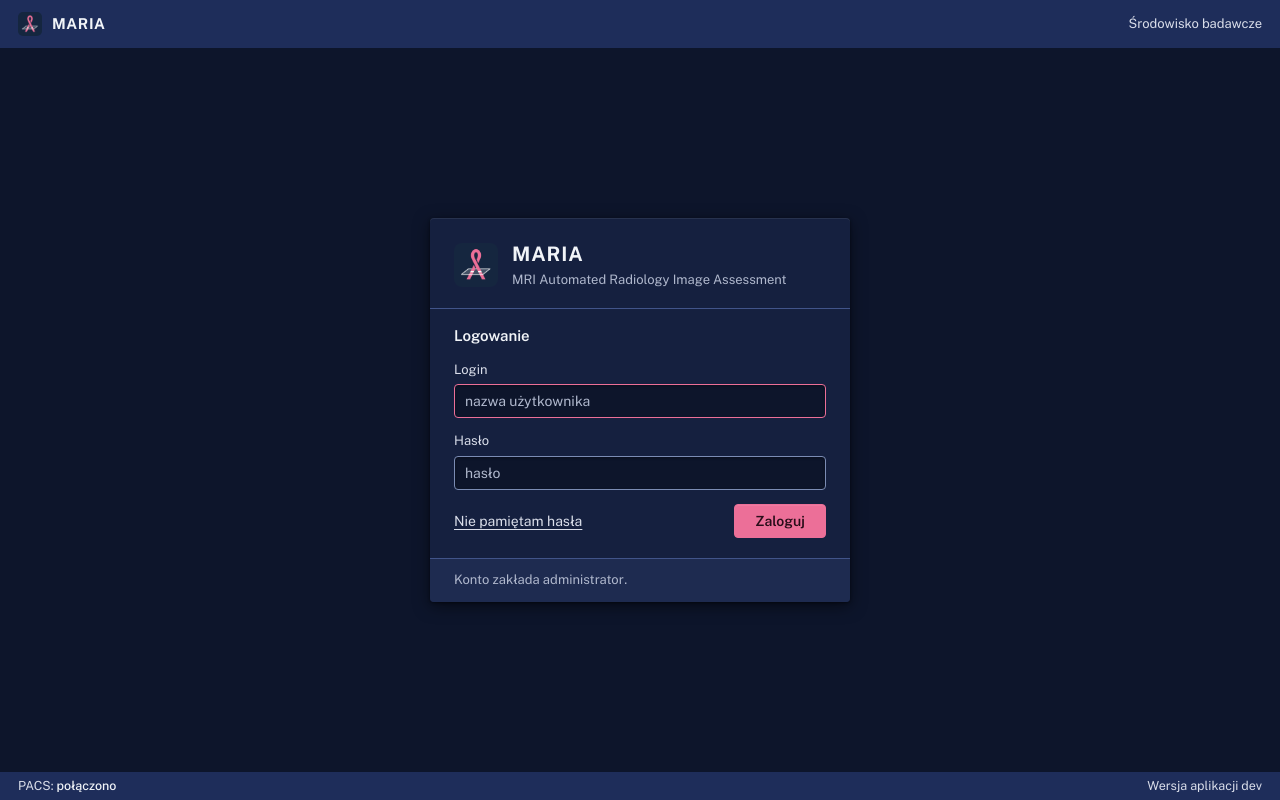
Test: LoginPage › says the login or password is wrong on 401
This screenshot has width=1280, height=800.
Type "demo.radiologist" into the field labelled "Login" at (640, 401), box [454,384,826,418]
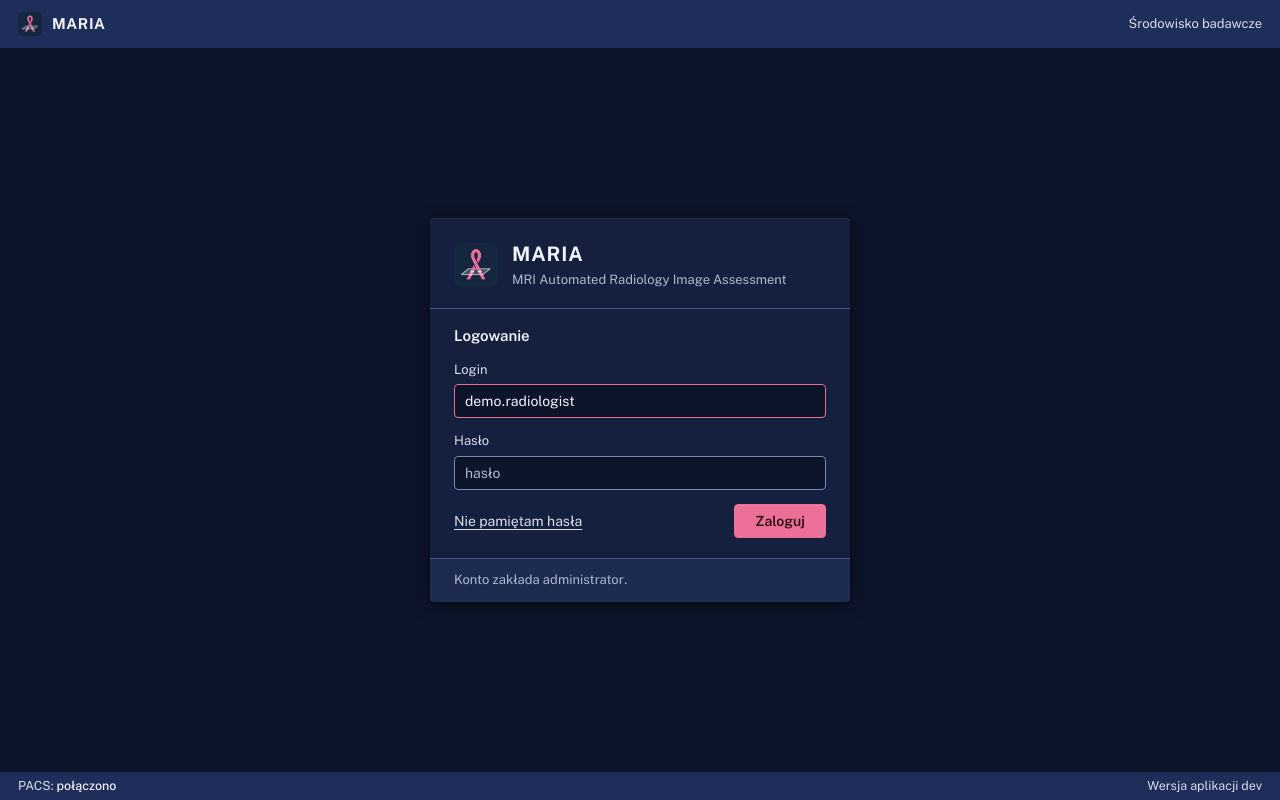
Type "zle" into the password field labelled "Hasło" at (640, 473), box [454,456,826,490]
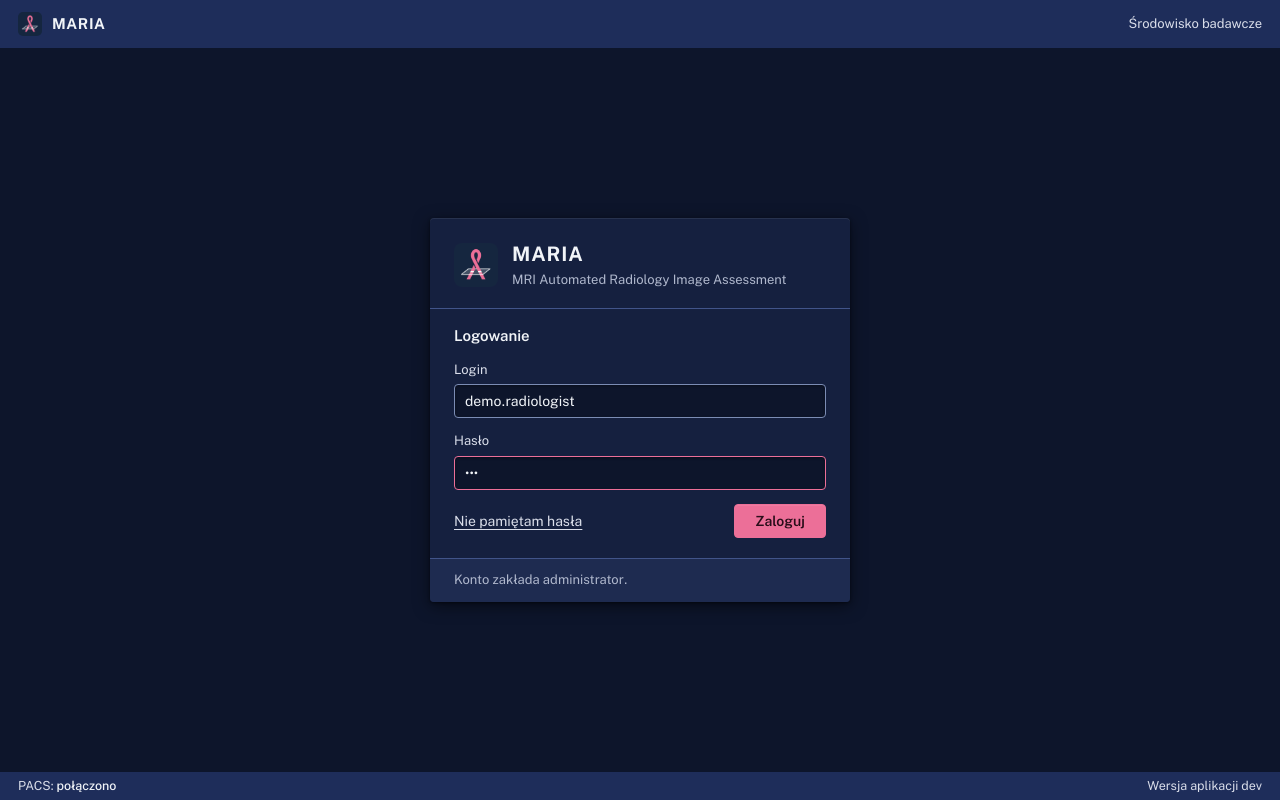
Click the button "Zaloguj" at (780, 521), box [734,504,826,538]
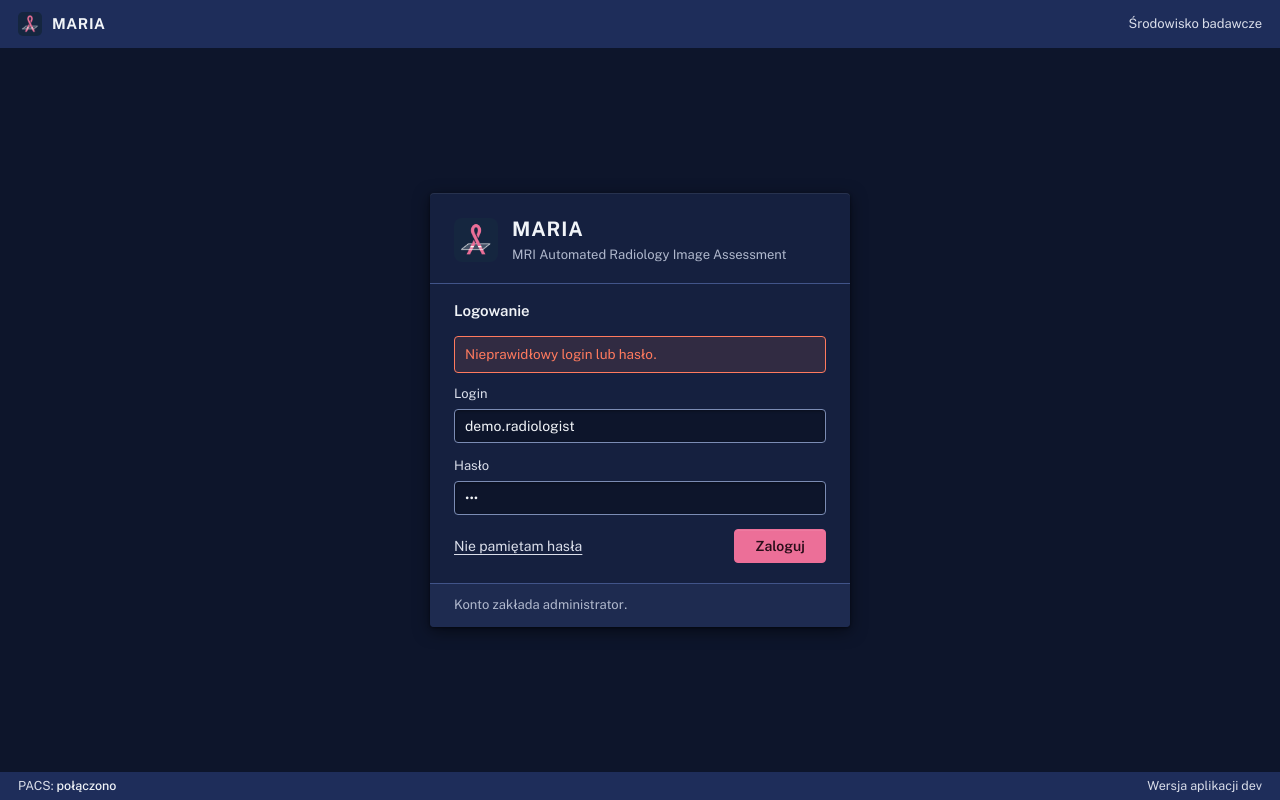
Check: the message reads "Nieprawidłowy login lub hasło.", box [465,346,657,362]
